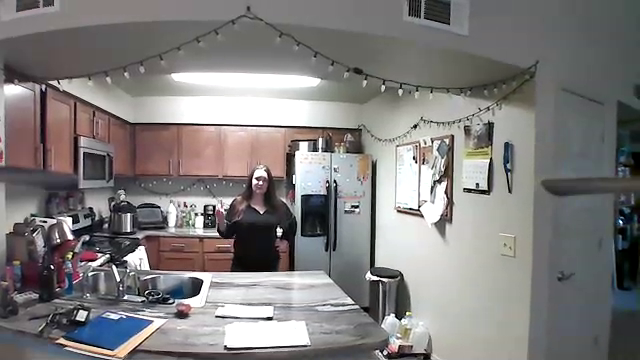up: (212, 196, 229, 225)
